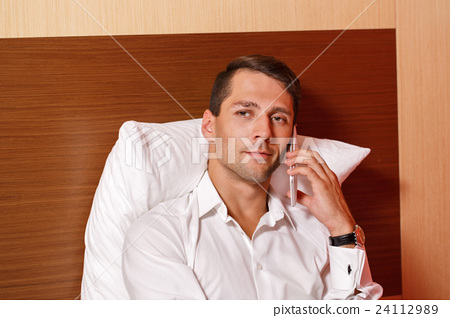phone: (284, 122, 331, 217)
talk: (218, 98, 346, 222)
